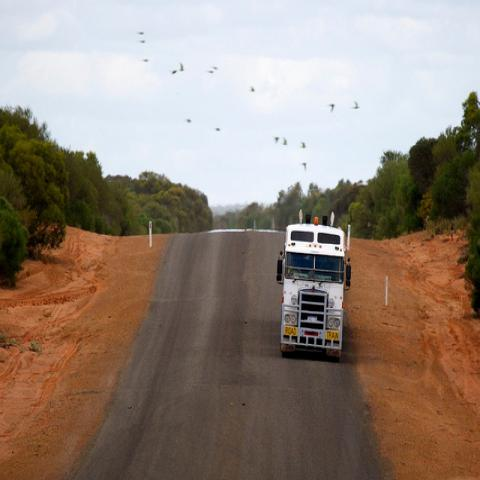truck: (282, 227, 346, 354)
